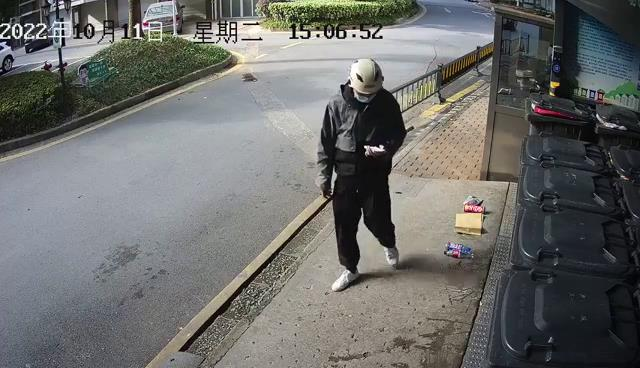lvzhipin: (443, 239, 476, 260), (462, 202, 486, 213)
person: (311, 56, 404, 292)
zhizhipin: (453, 211, 486, 237)
